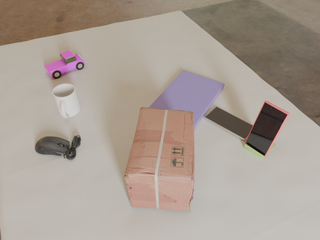book: (150, 70, 224, 129)
box: (125, 107, 194, 213)
cup: (52, 84, 80, 118)
mouse: (35, 134, 81, 160)
phone: (245, 101, 290, 156), (205, 107, 253, 140)
toy_car: (44, 50, 85, 78)
